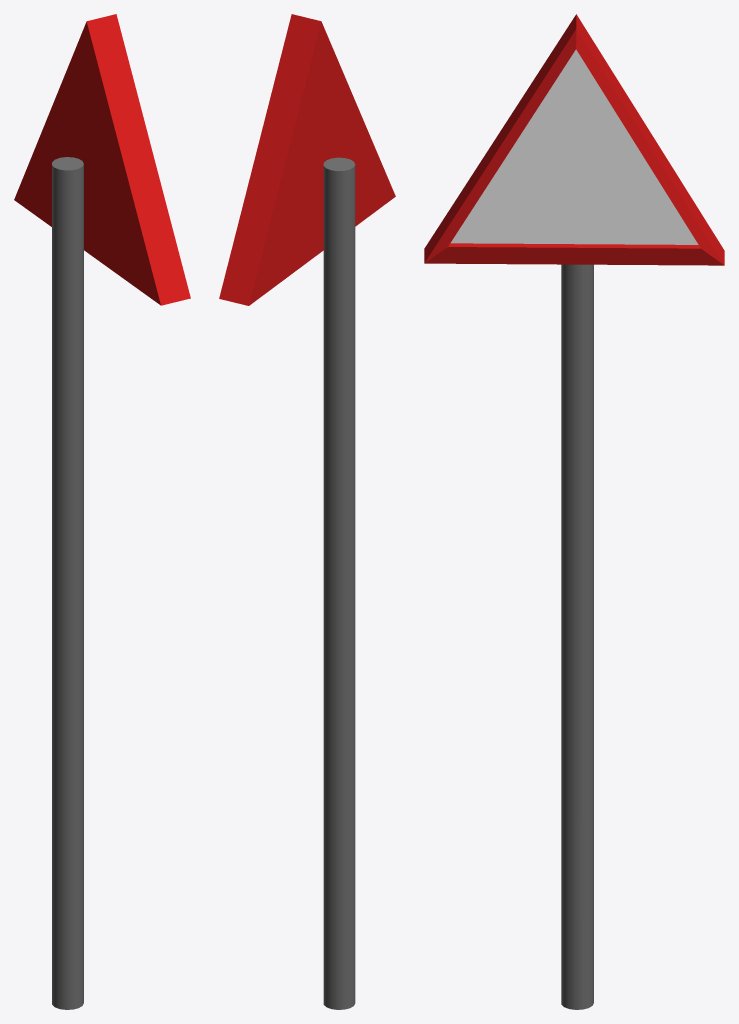
The model's file is RoadSign_05.fbx.
3 views of the same model, side by side, from view 1: azimuth 30°, elevation 25°; view 2: azimuth 150°, elevation 25°; view 3: azimuth 270°, elevation 25° (orthographic). The views are drawn at different scales.
Visible parts, largest first — view 1: hazard_signs_w__ext; view 2: hazard_signs_w__ext; view 3: hazard_signs_w__ext.
Part boxes in pixels (bbox=[...]): hazard_signs_w__ext: bbox=[14, 14, 190, 1009]; hazard_signs_w__ext: bbox=[219, 14, 395, 1009]; hazard_signs_w__ext: bbox=[424, 14, 724, 1009].
Size of the model in its own units: 0.1356 by 1.93 by 0.5275.
